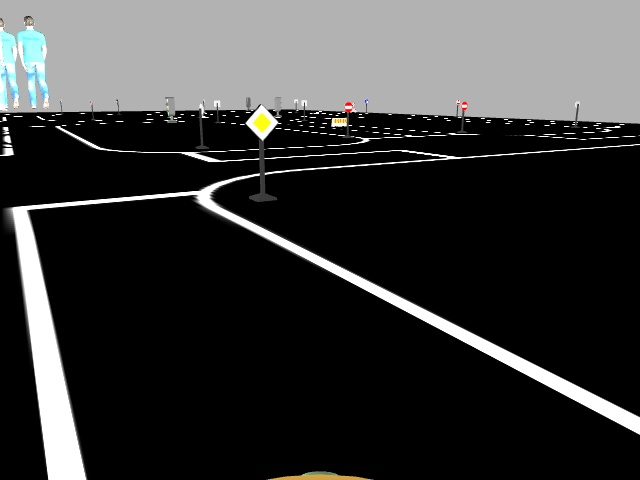Priority: (243, 103, 279, 138)
